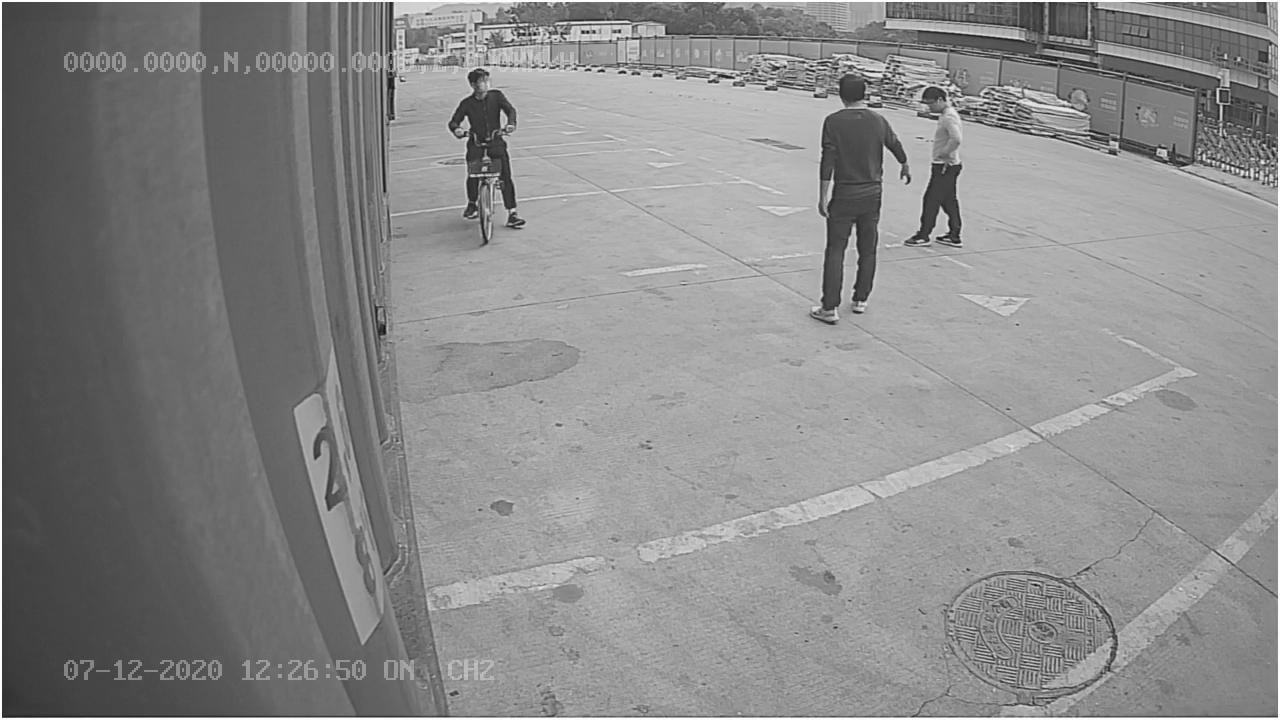person: (801, 71, 914, 332)
